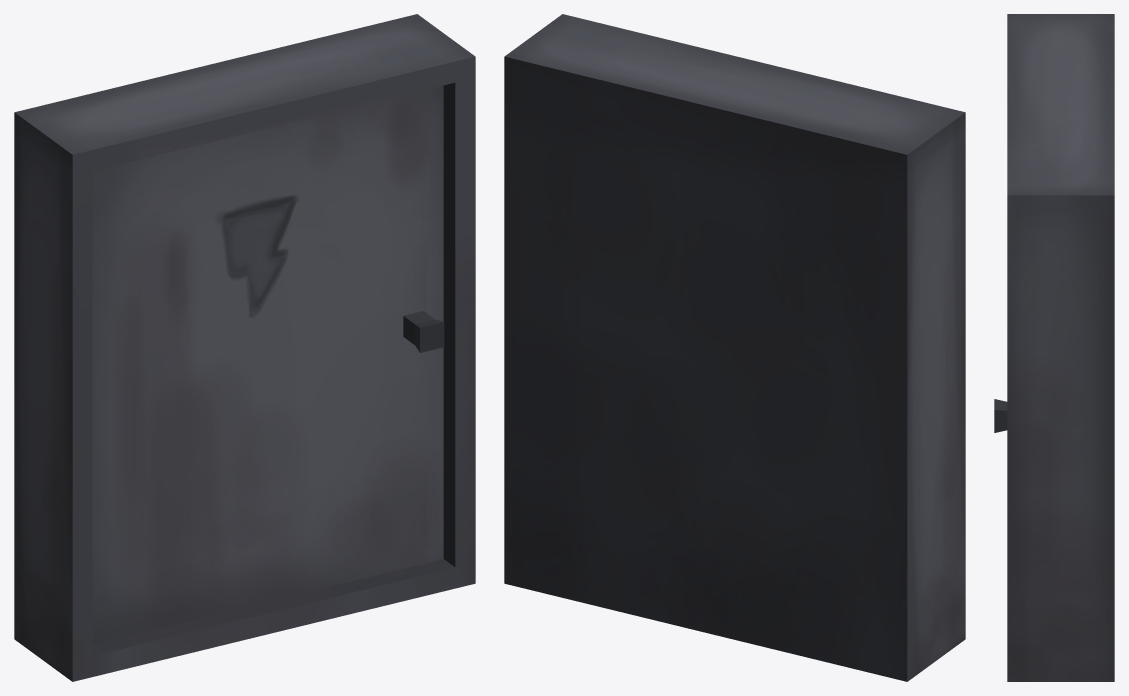
File: PowerBox.fbx
3 views of the same model, side by side, from view 1: azimuth 30°, elevation 25°; view 2: azimuth 150°, elevation 25°; view 3: azimuth 270°, elevation 25° (orthographic). The views are drawn at different scales.
Visible parts, largest first — view 1: Cube; view 2: Cube; view 3: Cube.
Part boxes in pixels (left/top/right/bottom): Cube: left=14, top=14, right=475, bottom=681; Cube: left=504, top=14, right=965, bottom=681; Cube: left=994, top=14, right=1114, bottom=681.
Bounding box in the file's own units: 2 × 2.5 × 0.56.
